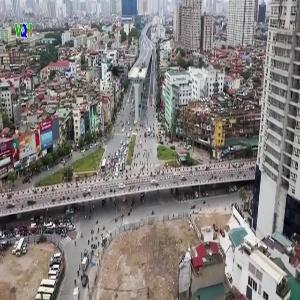drone: (66, 22, 162, 118)
